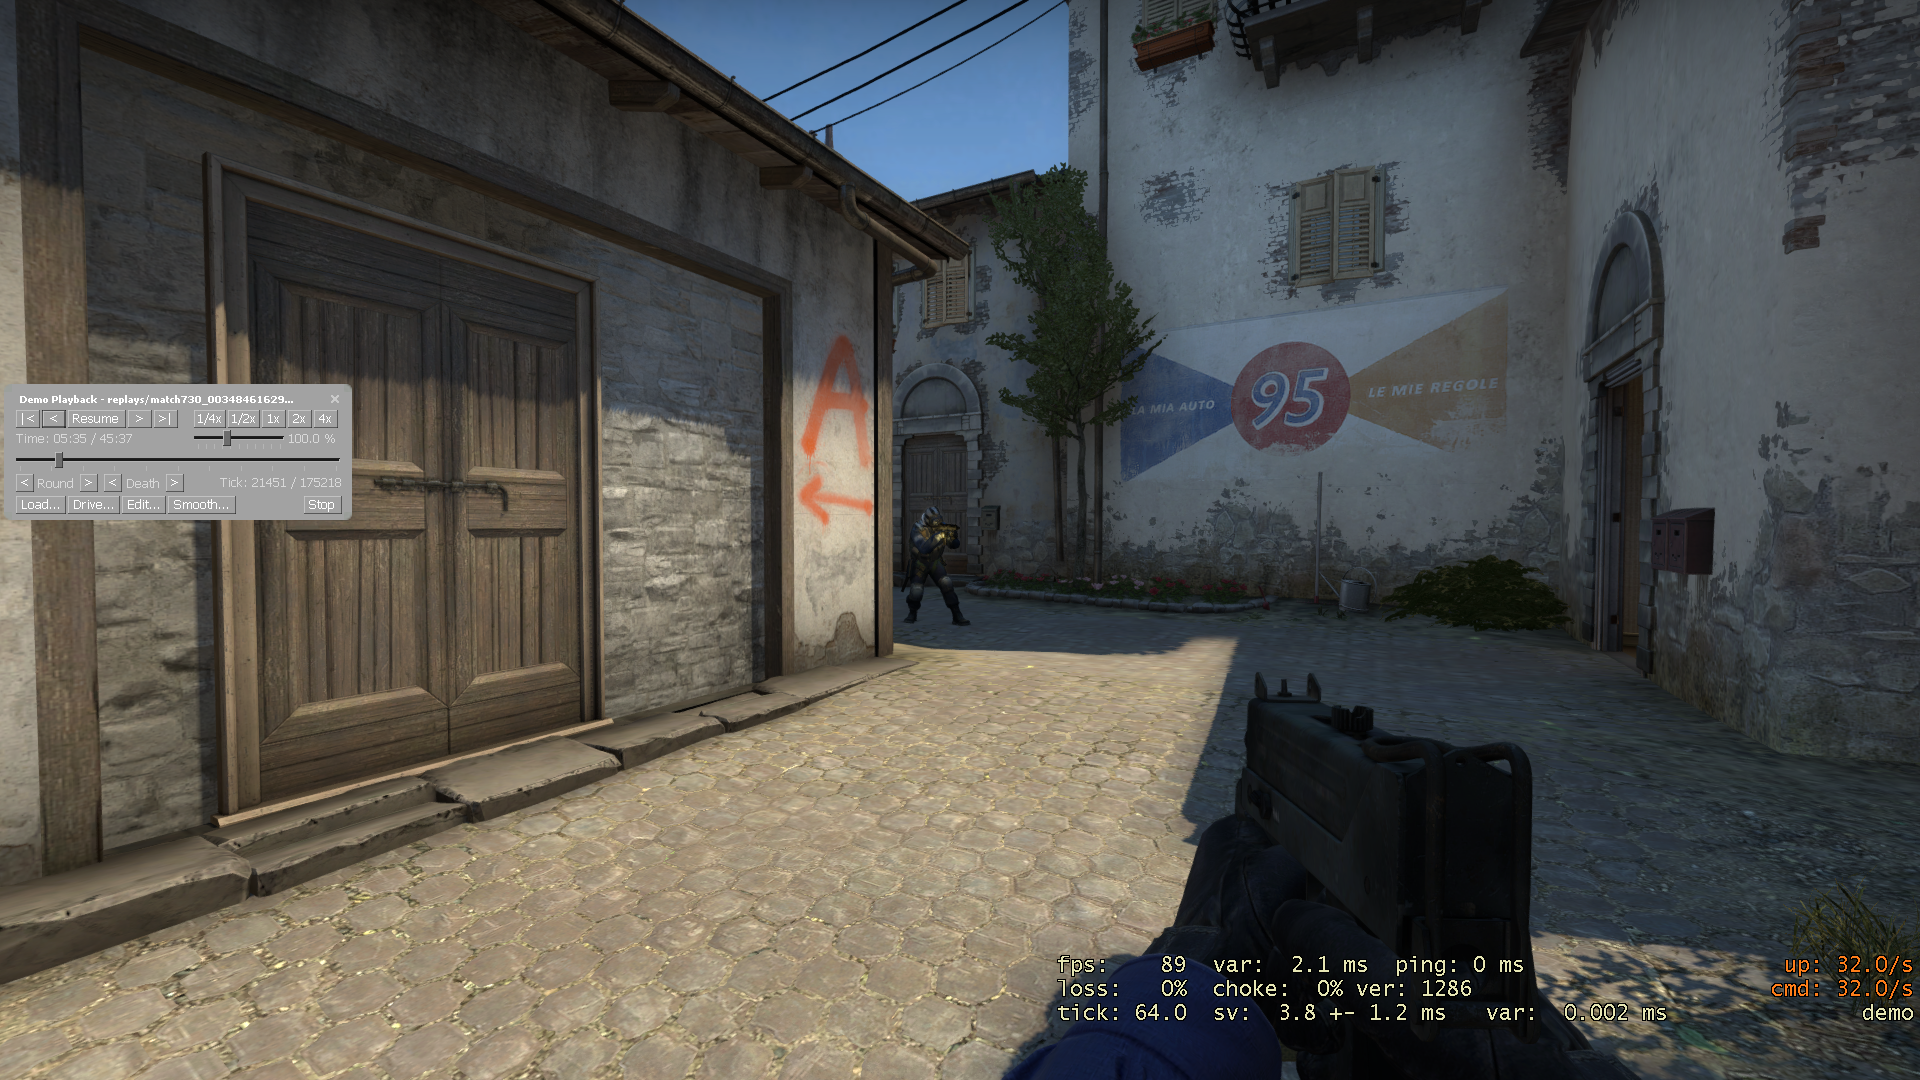ct: (903, 506, 971, 626)
